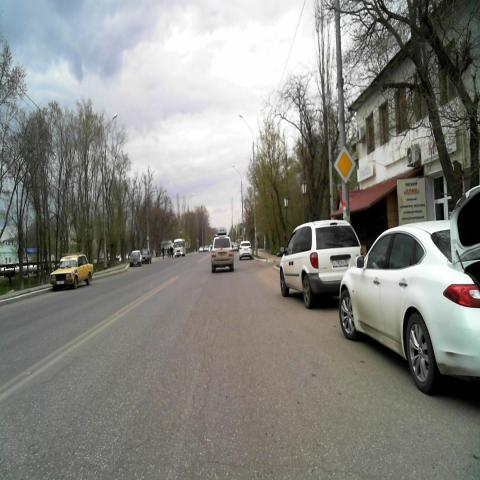2_1: (334, 146, 356, 184)
